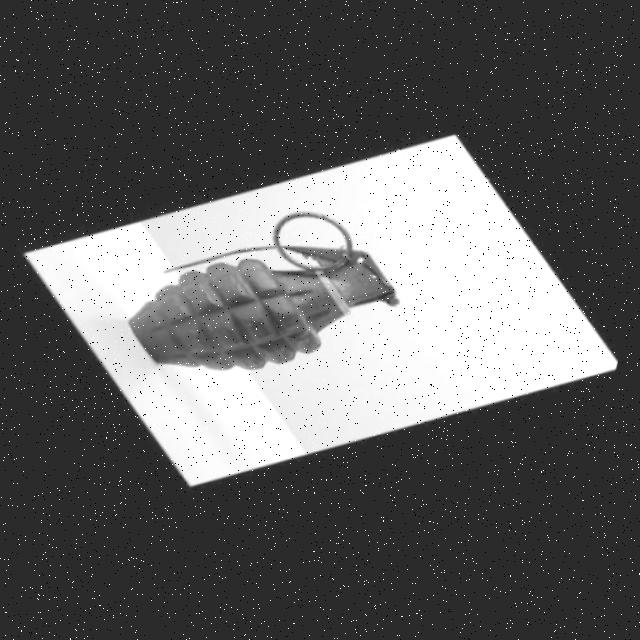grenade: (97, 149, 452, 448)
